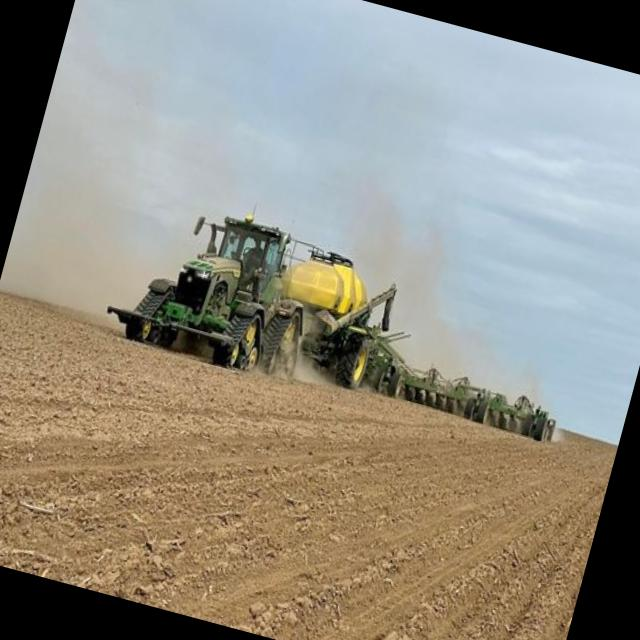red-sand: (0, 295, 616, 640)
